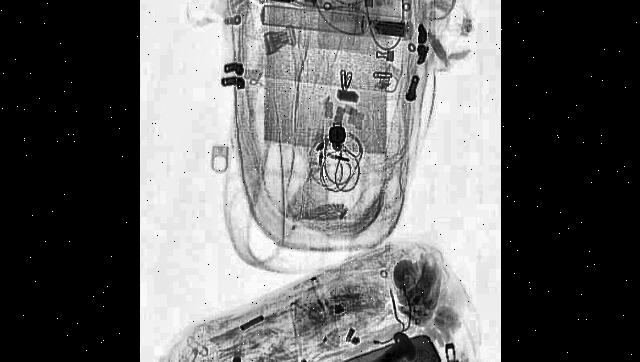Knife: (236, 327, 443, 362)
